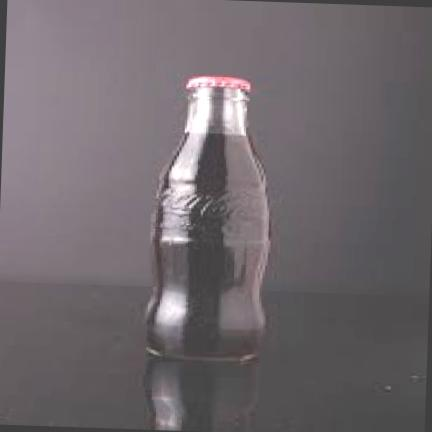container: (149, 75, 269, 358)
fluid: (149, 132, 269, 356)
fluid-surface: (182, 126, 246, 135)
